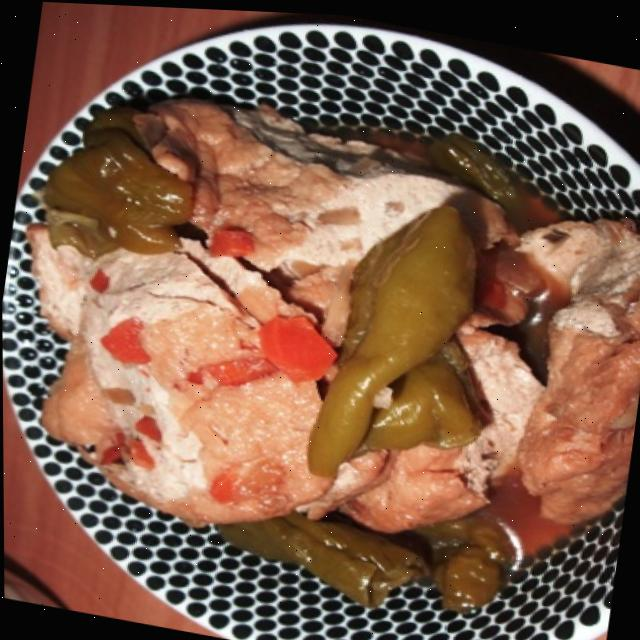熟制海鲜: (0, 40, 640, 639)
